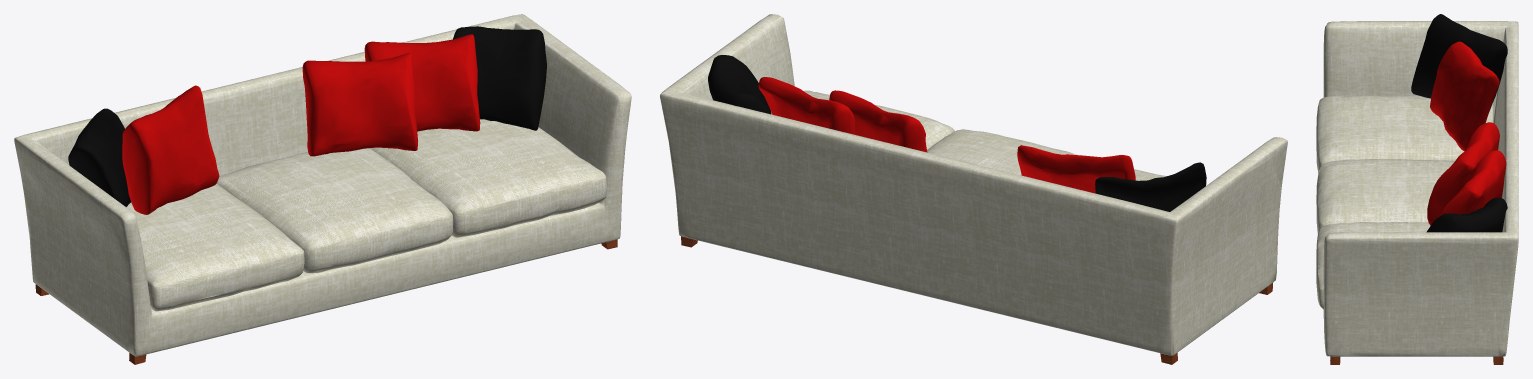
The model's file is Couch.FBX.
The picture shows the model from 3 angles, left to right: view 1: azimuth 30°, elevation 25°; view 2: azimuth 150°, elevation 25°; view 3: azimuth 270°, elevation 25°; orthographic projection. The views are drawn at different scales.
Parts seen in each view (by area): view 1: couch, Pilows; view 2: couch, Pilows; view 3: couch, Pilows.
Boxes of the visible parts, box(x1,y1,x2,y2) form: couch: box(14, 14, 631, 364); Pilows: box(68, 26, 546, 214); couch: box(660, 14, 1287, 364); Pilows: box(708, 55, 1206, 211); couch: box(1316, 21, 1518, 364); Pilows: box(1411, 14, 1507, 232).
Bounding box in the file's own units: 291 × 94.82 × 115.
4 materials, 2 textured.
